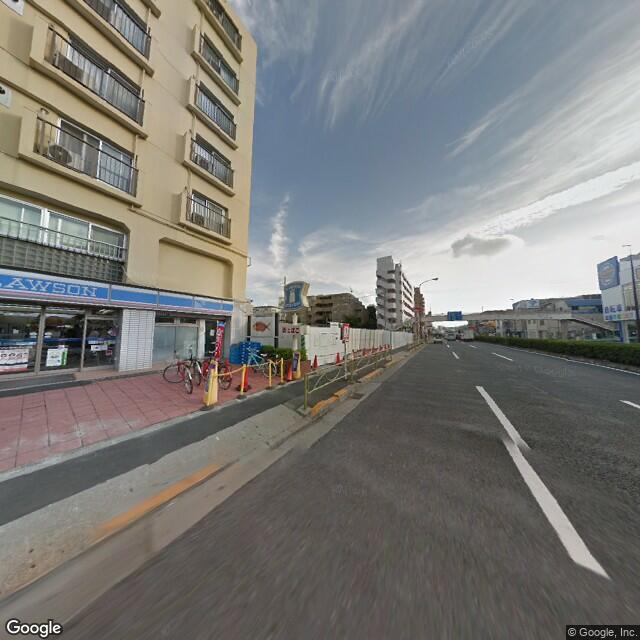lawson: (2, 263, 235, 317), (279, 279, 311, 317)
